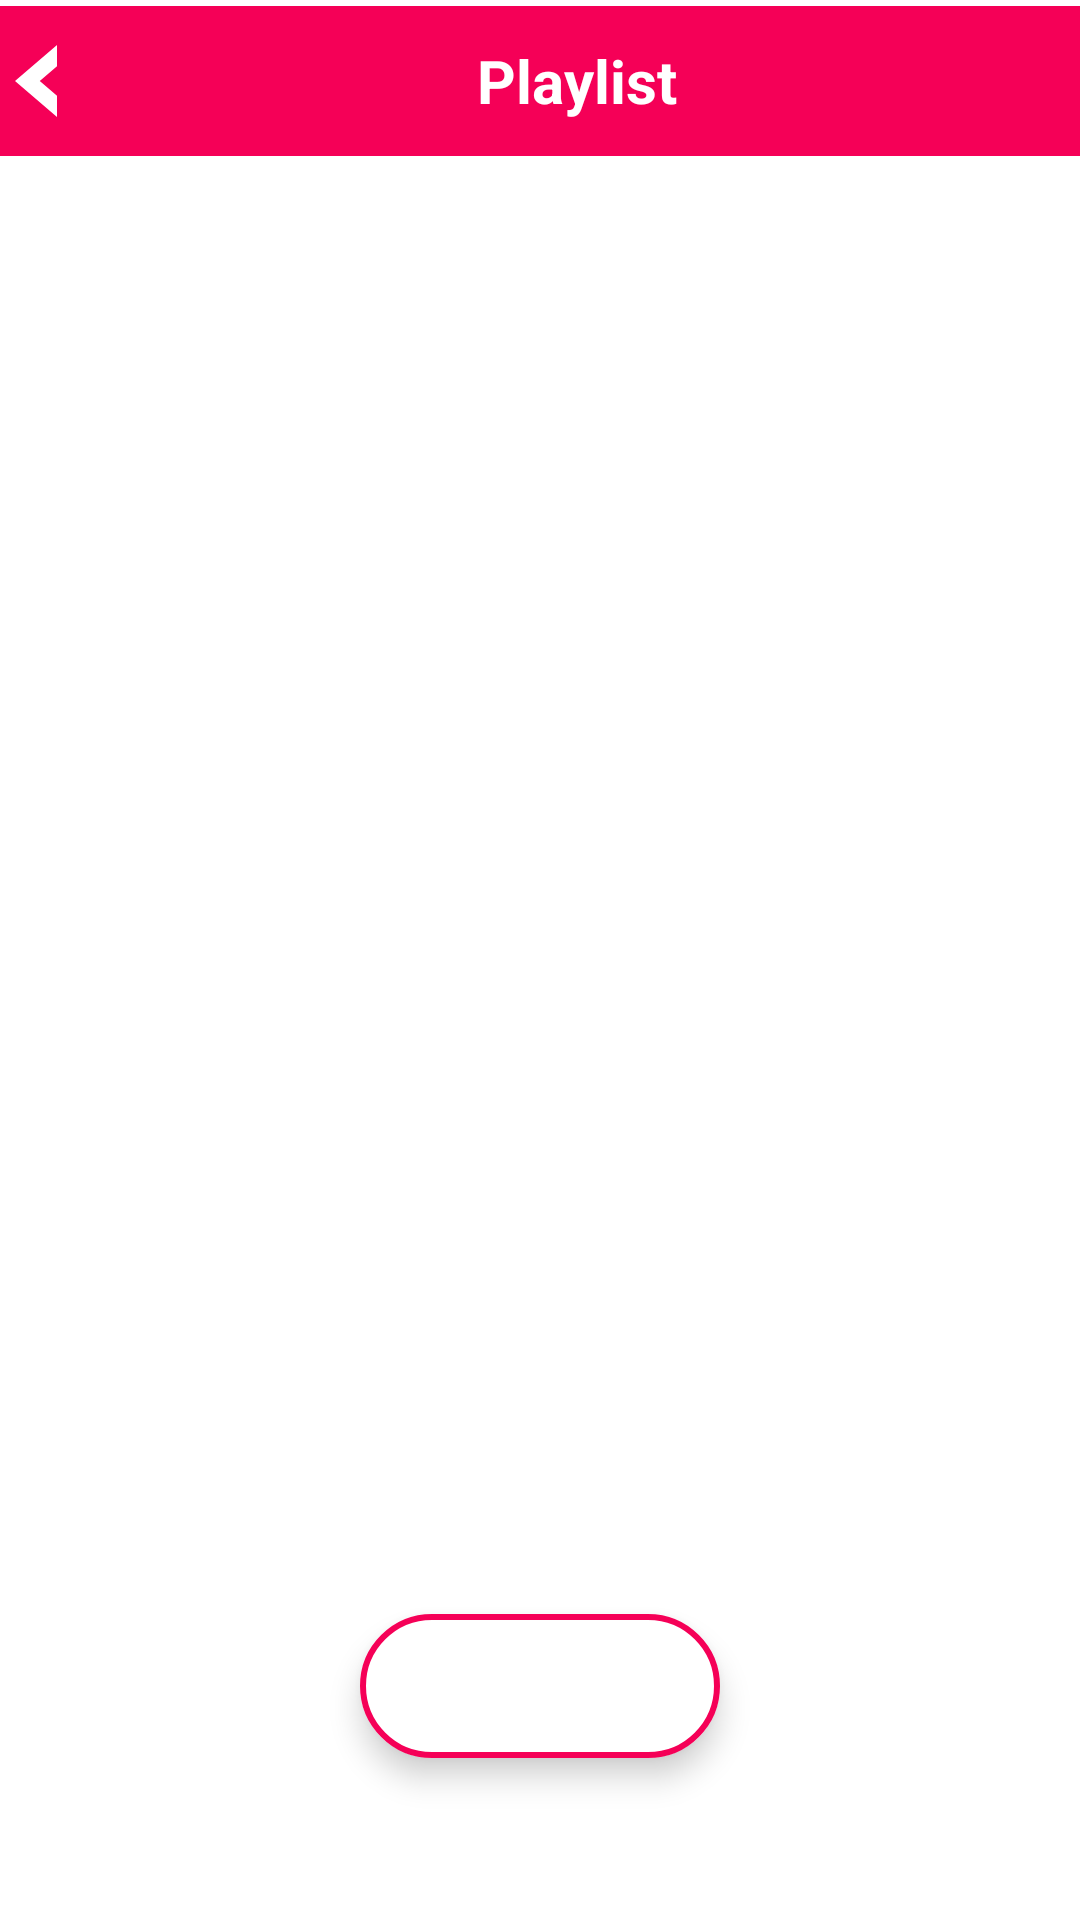

Icon bounding boxes for this 1080w x 1920h phone screenshot, format region(x1, y1, x2, y2):
Back: region(15, 45, 57, 117)
